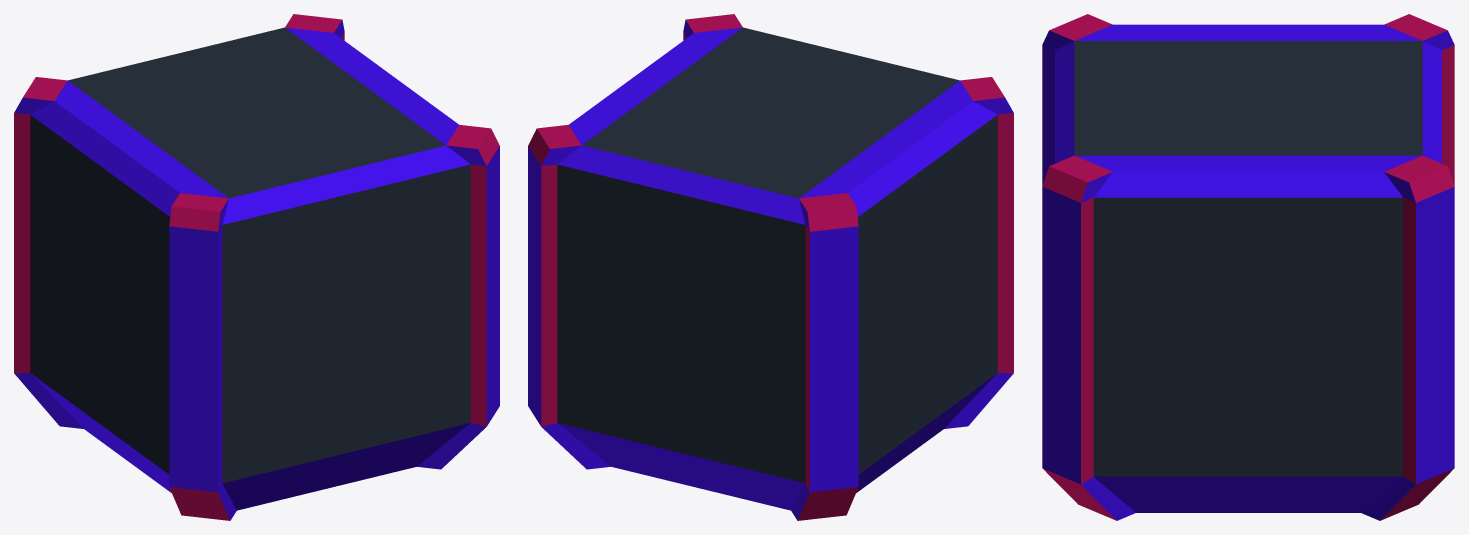
Rendered from Caja2.obj.
3 views of the same model, side by side, from view 1: azimuth 30°, elevation 25°; view 2: azimuth 150°, elevation 25°; view 3: azimuth 270°, elevation 25° (orthographic). The views are drawn at different scales.
Parts seen in each view (by area): view 1: LowPolyCrate.001; view 2: LowPolyCrate.001; view 3: LowPolyCrate.001.
Boxes of the visible parts, left/top/right/bottom form: LowPolyCrate.001: left=14, top=14, right=499, bottom=520; LowPolyCrate.001: left=528, top=14, right=1013, bottom=520; LowPolyCrate.001: left=1042, top=14, right=1454, bottom=520.
Bounding box in the file's own units: 1.69 × 1.58 × 1.69.
